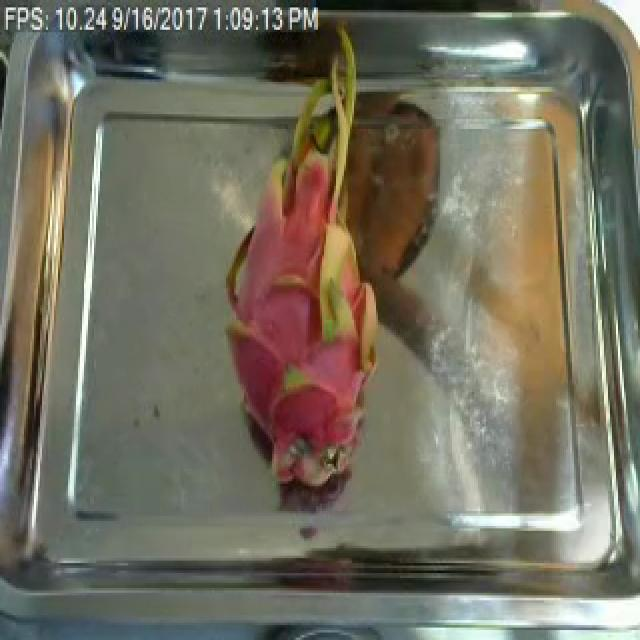fruit: (212, 42, 398, 476)
